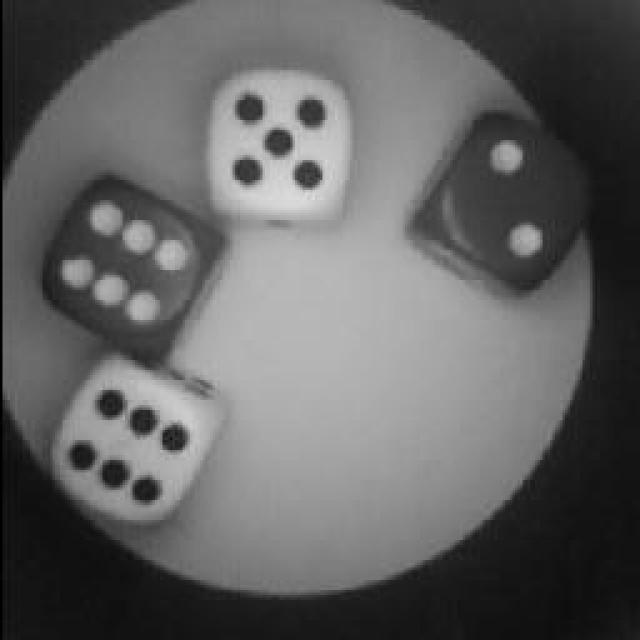dice_2: (420, 108, 598, 290)
dice_5: (205, 63, 355, 225)
dice_6: (40, 183, 222, 355), (42, 362, 222, 530)
